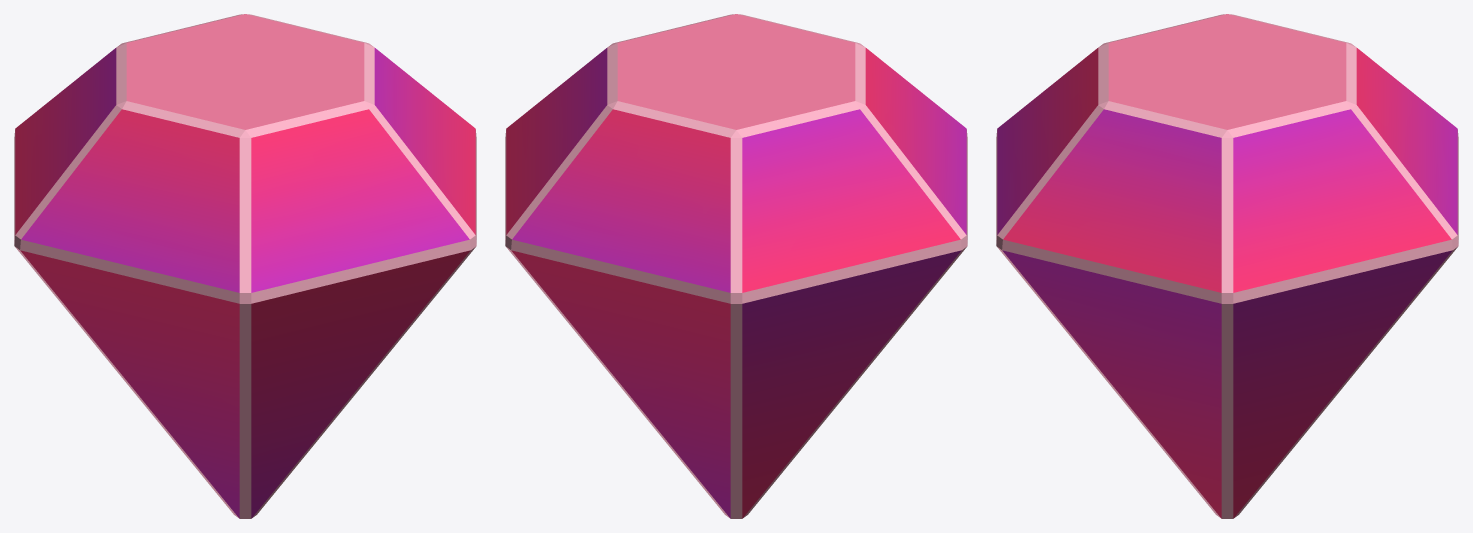
Rendered from GemPink.fbx.
3 views of the same model, side by side, from view 1: azimuth 30°, elevation 25°; view 2: azimuth 150°, elevation 25°; view 3: azimuth 270°, elevation 25° (orthographic).
Parts seen in each view (by area): view 1: GemPink; view 2: GemPink; view 3: GemPink.
Part boxes in pixels (x1,y1,x2,y2): GemPink: [14, 14, 476, 518]; GemPink: [505, 14, 967, 518]; GemPink: [996, 14, 1458, 518].
Bounding box in the file's own units: 99.42 × 92.11 × 87.18.
